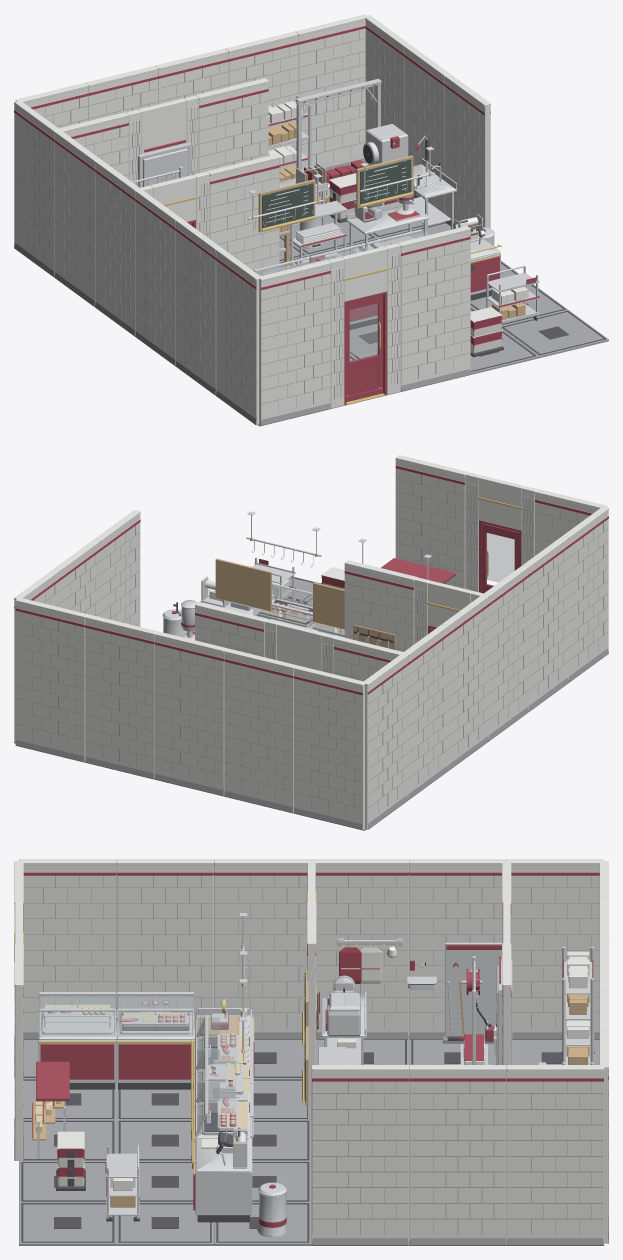
File: butchers-shop-and-deli-counter-butchers--36a603f2-starter-scene__34467.glb
The picture shows the model from 3 angles, top to bottom: view 1: azimuth 30°, elevation 25°; view 2: azimuth 150°, elevation 25°; view 3: azimuth 270°, elevation 25°; orthographic projection. The views are drawn at different scales.
Parts seen in each view (by area): view 1: 030-tiled-wall-module/0, 032-tiled-wall-module/0, 042-tiled-wall-module/0, 043-tiled-wall-module/0, 031-shop-door-module/0, 034-tiled-wall-module/0, 044-tiled-wall-module/0, 048-tiled-wall-module/0, 047-tiled-wall-module/0, 046-tiled-wall-module/0, 045-tiled-wall-module/0, 049-tiled-wall-module/0 (+51 smaller); view 2: 038-tiled-wall-module/0, 040-tiled-wall-module/0, 042-tiled-wall-module/0, 041-tiled-wall-module/0, 039-tiled-wall-module/0, 032-tiled-wall-module/0, 048-tiled-wall-module/0, 047-tiled-wall-module/0, 044-tiled-wall-module/0, 043-tiled-wall-module/0, 045-tiled-wall-module/0, 046-tiled-wall-module/0 (+35 smaller); view 3: 051-tiled-wall-module/0, 049-tiled-wall-module/0, 050-tiled-wall-module/0, 045-tiled-wall-module/0, 044-tiled-wall-module/0, 043-tiled-wall-module/0, 048-tiled-wall-module/0, 046-tiled-wall-module/0, 047-tiled-wall-module/0, 100-cleaning-station/0, 056-till-counter/1, 024-shop-floor-tile/0 (+66 smaller).
Boxes of the visible parts, bbox=[...] form: 030-tiled-wall-module/0: bbox=[258, 260, 330, 425]; 032-tiled-wall-module/0: bbox=[398, 226, 470, 390]; 042-tiled-wall-module/0: bbox=[295, 14, 367, 170]; 043-tiled-wall-module/0: bbox=[216, 248, 261, 424]; 031-shop-door-module/0: bbox=[328, 243, 400, 408]; 034-tiled-wall-module/0: bbox=[206, 154, 279, 275]; 044-tiled-wall-module/0: bbox=[175, 218, 221, 393]; 048-tiled-wall-module/0: bbox=[14, 100, 59, 275]; 047-tiled-wall-module/0: bbox=[54, 130, 100, 304]; 046-tiled-wall-module/0: bbox=[94, 159, 139, 333]; 045-tiled-wall-module/0: bbox=[135, 189, 181, 363]; 049-tiled-wall-module/0: bbox=[444, 74, 490, 232]; 038-tiled-wall-module/0: bbox=[293, 665, 365, 829]; 040-tiled-wall-module/0: bbox=[154, 631, 227, 795]; 042-tiled-wall-module/0: bbox=[15, 597, 87, 761]; 041-tiled-wall-module/0: bbox=[85, 614, 157, 778]; 039-tiled-wall-module/0: bbox=[224, 648, 296, 812]; 032-tiled-wall-module/0: bbox=[395, 455, 467, 588]; 048-tiled-wall-module/0: bbox=[364, 654, 407, 829]; 047-tiled-wall-module/0: bbox=[403, 624, 448, 797]; 044-tiled-wall-module/0: bbox=[522, 536, 568, 710]; 043-tiled-wall-module/0: bbox=[563, 507, 608, 680]; 045-tiled-wall-module/0: bbox=[484, 565, 528, 738]; 046-tiled-wall-module/0: bbox=[442, 595, 488, 769]; 051-tiled-wall-module/0: bbox=[506, 1065, 604, 1244]; 049-tiled-wall-module/0: bbox=[311, 1065, 409, 1244]; 050-tiled-wall-module/0: bbox=[409, 1065, 506, 1244]; 045-tiled-wall-module/0: bbox=[214, 859, 311, 1032]; 044-tiled-wall-module/0: bbox=[116, 859, 213, 1020]; 043-tiled-wall-module/0: bbox=[19, 859, 116, 1032]; 048-tiled-wall-module/0: bbox=[506, 859, 604, 1032]; 046-tiled-wall-module/0: bbox=[311, 859, 409, 1038]; 047-tiled-wall-module/0: bbox=[409, 859, 506, 1038]; 100-cleaning-station/0: bbox=[445, 942, 502, 1037]; 056-till-counter/1: bbox=[195, 1137, 252, 1215]; 024-shop-floor-tile/0: bbox=[19, 1202, 116, 1245].
Size of the model in its own units: 7.65 by 3.04 by 9.15.
